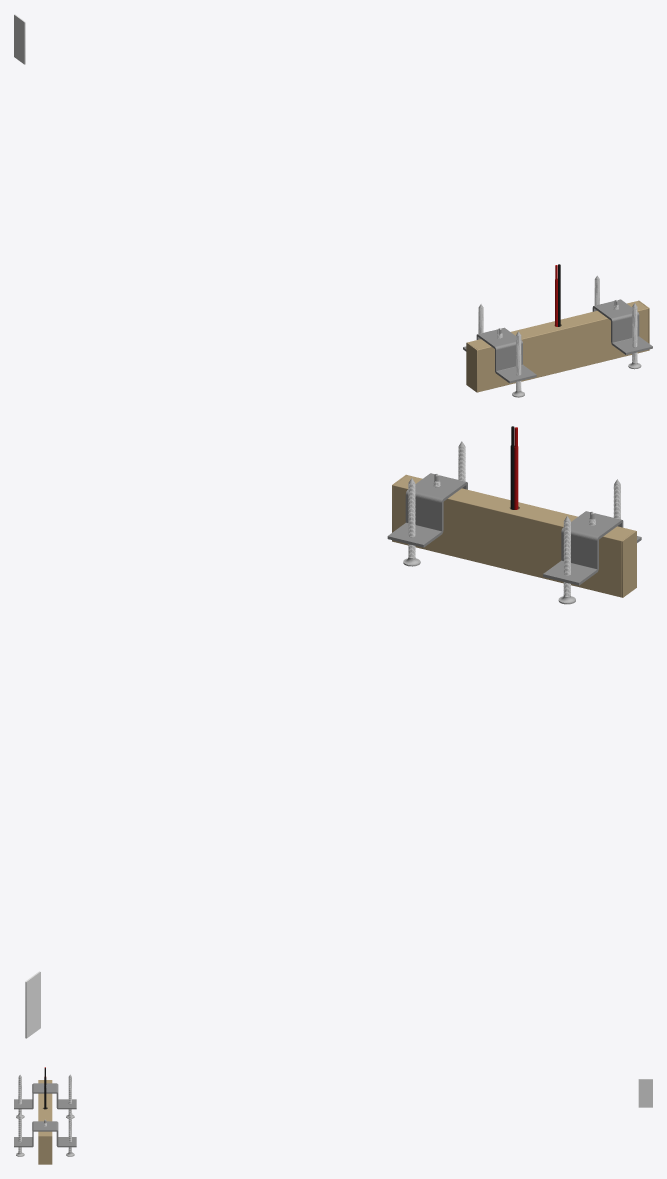
The model's file is NoFrameII.glb.
3 views of the same model, one above another, from view 1: azimuth 30°, elevation 25°; view 2: azimuth 150°, elevation 25°; view 3: azimuth 270°, elevation 25° (orthographic). The views are drawn at different scales.
Visible parts, largest first — view 1: 3DGeom-9, 3DGeom-19 (×2); view 2: 3DGeom-9, 3DGeom-19 (×2), 3DGeom-1 (×2); view 3: 3DGeom-19 (×2), 3DGeom-1 (×2), 3DGeom-9, 3DGeom-5 (×2).
Part boxes in pixels (left/top/right/bottom): 3DGeom-9: left=468, top=301, right=648, bottom=392; 3DGeom-19 (×2): left=463, top=299, right=652, bottom=383; 3DGeom-9: left=393, top=475, right=634, bottom=597; 3DGeom-19 (×2): left=387, top=473, right=641, bottom=585; 3DGeom-1 (×2): left=25, top=530, right=636, bottom=1038; 3DGeom-19 (×2): left=14, top=1083, right=76, bottom=1147; 3DGeom-1 (×2): left=38, top=1079, right=652, bottom=1164; 3DGeom-9: left=38, top=1080, right=52, bottom=1135; 3DGeom-5 (×2): left=16, top=1112, right=74, bottom=1156.
Size of the model in its own units: 0.1302 by 0.0725 by 0.6124.
